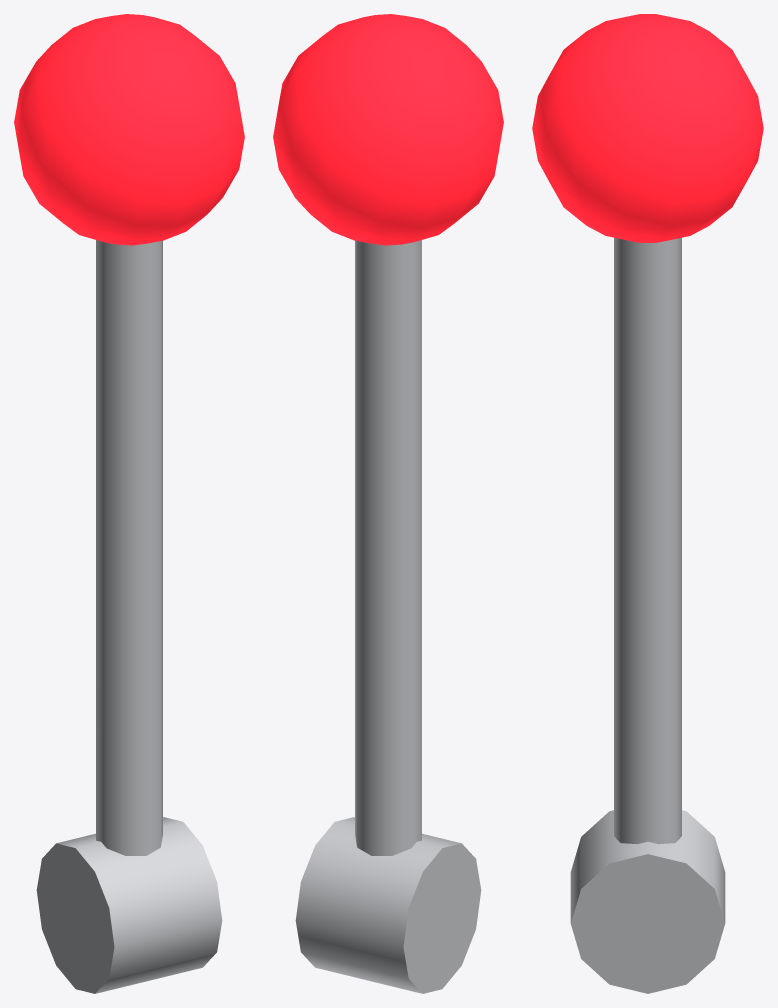
File: slot-lever.glb
3 renders of one model, left to right at view 1: azimuth 30°, elevation 25°; view 2: azimuth 150°, elevation 25°; view 3: azimuth 270°, elevation 25°, orthographic.
Parts seen in each view (by area): view 1: slot-lever; view 2: slot-lever; view 3: slot-lever.
Boxes of the visible parts, bbox=[...] form: slot-lever: bbox=[14, 14, 244, 993]; slot-lever: bbox=[273, 14, 503, 993]; slot-lever: bbox=[532, 14, 763, 993].
Bounding box in the file's own units: 0.1462 × 0.675 × 0.15.
